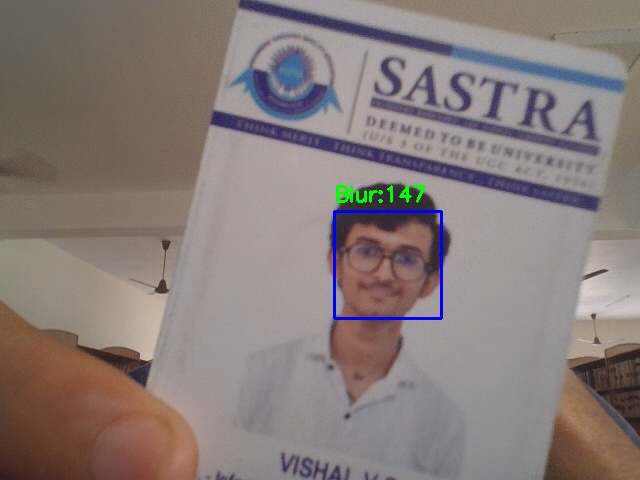fake: (334, 211, 441, 318)
